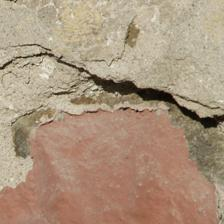Crack: (2, 21, 222, 107)
